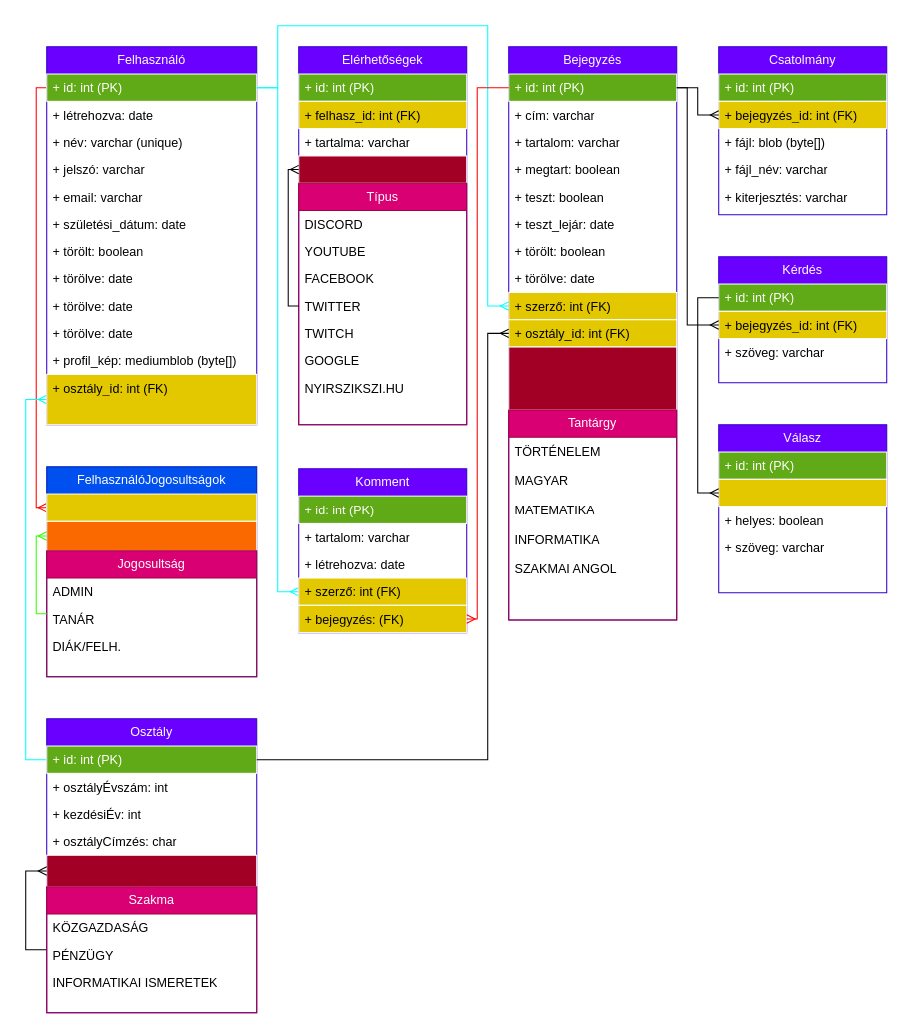
The diagram is 905 pixels wide and 1034 high, and some of its shapes have lost their labels. Each missing label, with the centre of its shape:
"+ felhasználó_id: int (FK)" belongs at pixel 151 507.
"+ jogosultság: ENUM" belongs at pixel 151 535.
"+ kérdés_id: int (FK)" belongs at pixel 802 492.
"+ szakma: ENUM" belongs at pixel 151 870.
"+ tantárgy: ENUM" belongs at pixel 592 378.
"+ típus: ENUM" belongs at pixel 382 169.
